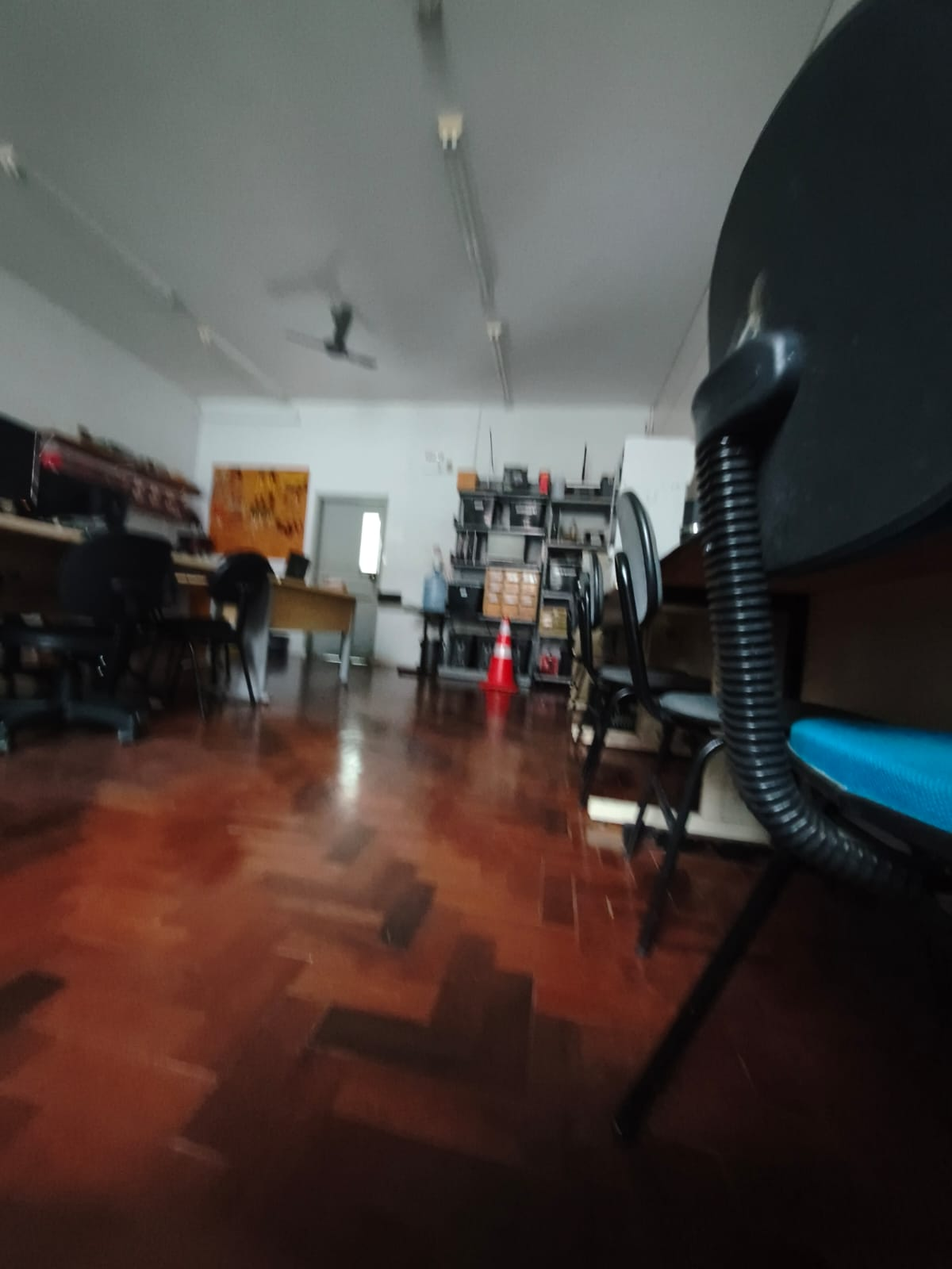cone: (481, 611, 525, 703)
